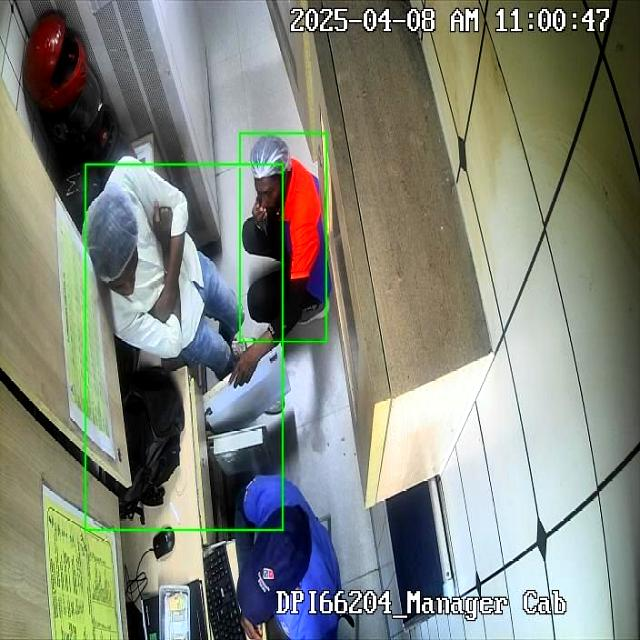helmet: (22, 17, 88, 115)
no_helmet: (80, 187, 139, 297), (249, 134, 290, 213)
